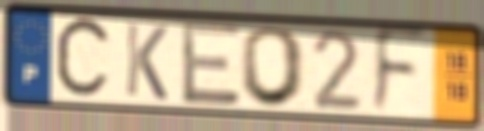2: (309, 28, 364, 112)
C: (52, 12, 115, 105)
E: (178, 19, 243, 108)
F: (369, 25, 432, 121)
K: (123, 20, 171, 104)
O: (237, 25, 309, 110)
